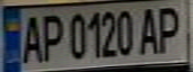0: (115, 7, 136, 57), (66, 9, 84, 61)
1: (84, 8, 103, 60)
2: (100, 7, 118, 58)
A: (18, 11, 45, 64), (136, 3, 163, 55)
P: (151, 2, 184, 55), (36, 10, 66, 63)
